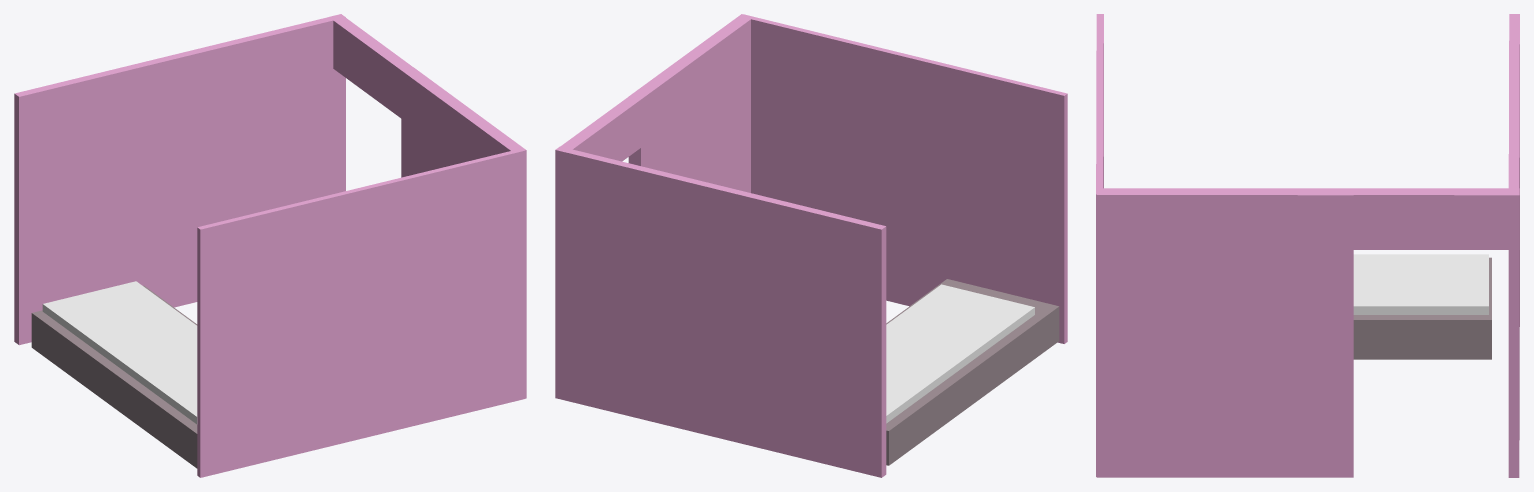
The model's file is ISO_cell.dae.
3 renders of one model, left to right at view 1: azimuth 30°, elevation 25°; view 2: azimuth 150°, elevation 25°; view 3: azimuth 270°, elevation 25°, orthographic. The views are drawn at different scales.
Visible parts, largest first — view 1: wall3.002; view 2: wall3.002; view 3: wall3.002.
Boxes of the visible parts, box(x1,y1,x2,y2) form: wall3.002: box(14, 14, 526, 477); wall3.002: box(555, 14, 1067, 477); wall3.002: box(1096, 14, 1519, 477).
Size of the model in its own units: 4.27 by 4.22 by 3.11.
